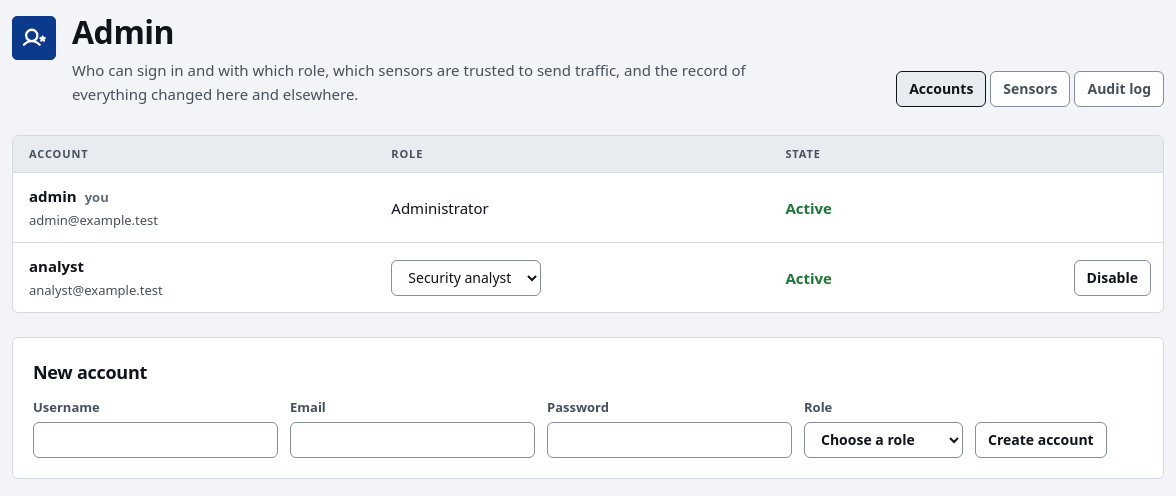
Test case: AdminPage › shows a refused time range as the sentence the API wrote
This screenshot has width=1176, height=496.
Click the button "Audit log": (1119, 89) [1074,71,1164,107]
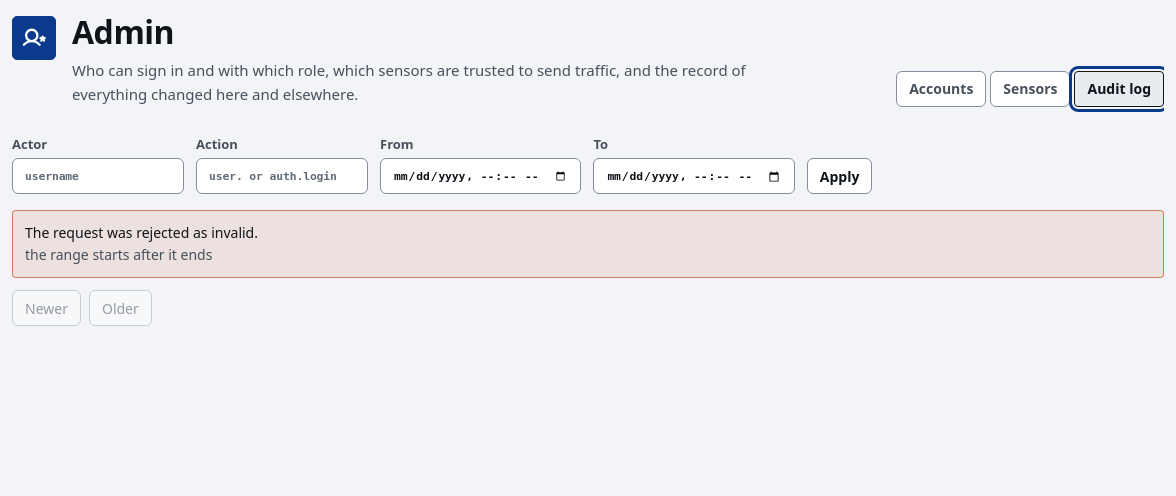
Expected: the text "the range starts after it ends" is shown, [25,245,212,264]
